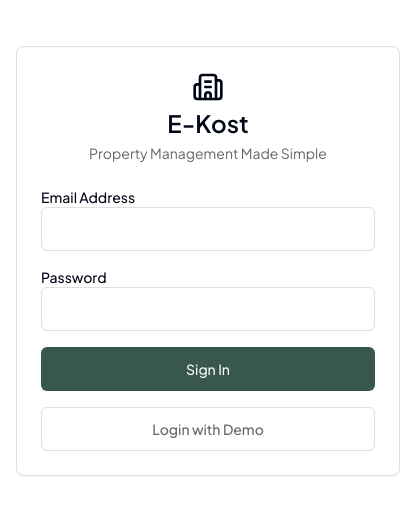
it: LoginForm › demo login › shows generic error when demo login fetch throws a network error
The width and height of the screenshot is (417, 523).
Click the button "Login with Demo".
click(208, 429)  # box [41,407,375,451]
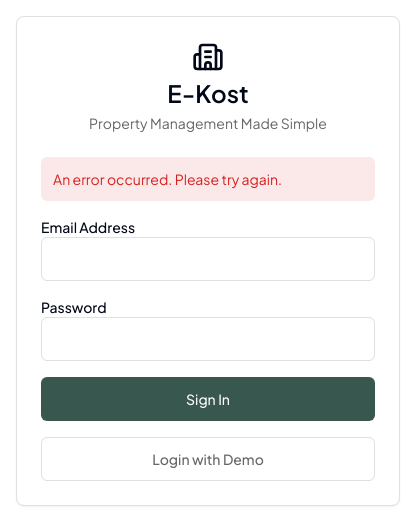
Expected: the message "An error occurred. Please try again." is shown, [41,157,375,201]
